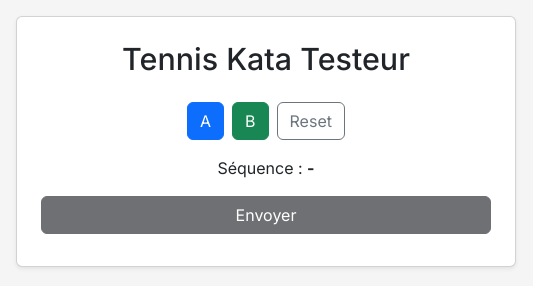
Scenario: TennisGameComponent › reset la séquence
Click the button "A". click: (206, 120)
box: [187, 102, 224, 140]
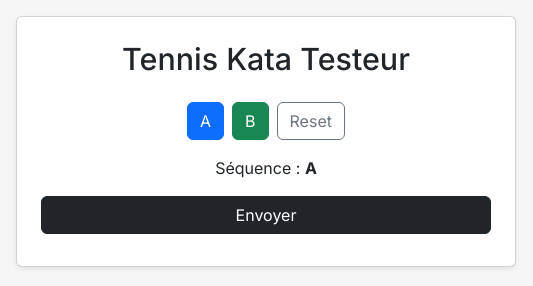
Click the button "Reset". click: (311, 120)
box: [276, 102, 345, 140]
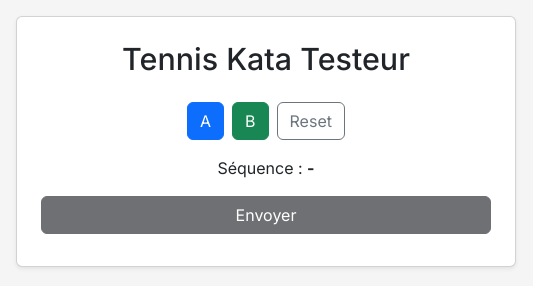
Expected: the text "Séquence :" is shown, [217, 158, 307, 178]
Result: the text "-" is shown at [307, 158, 315, 178]
